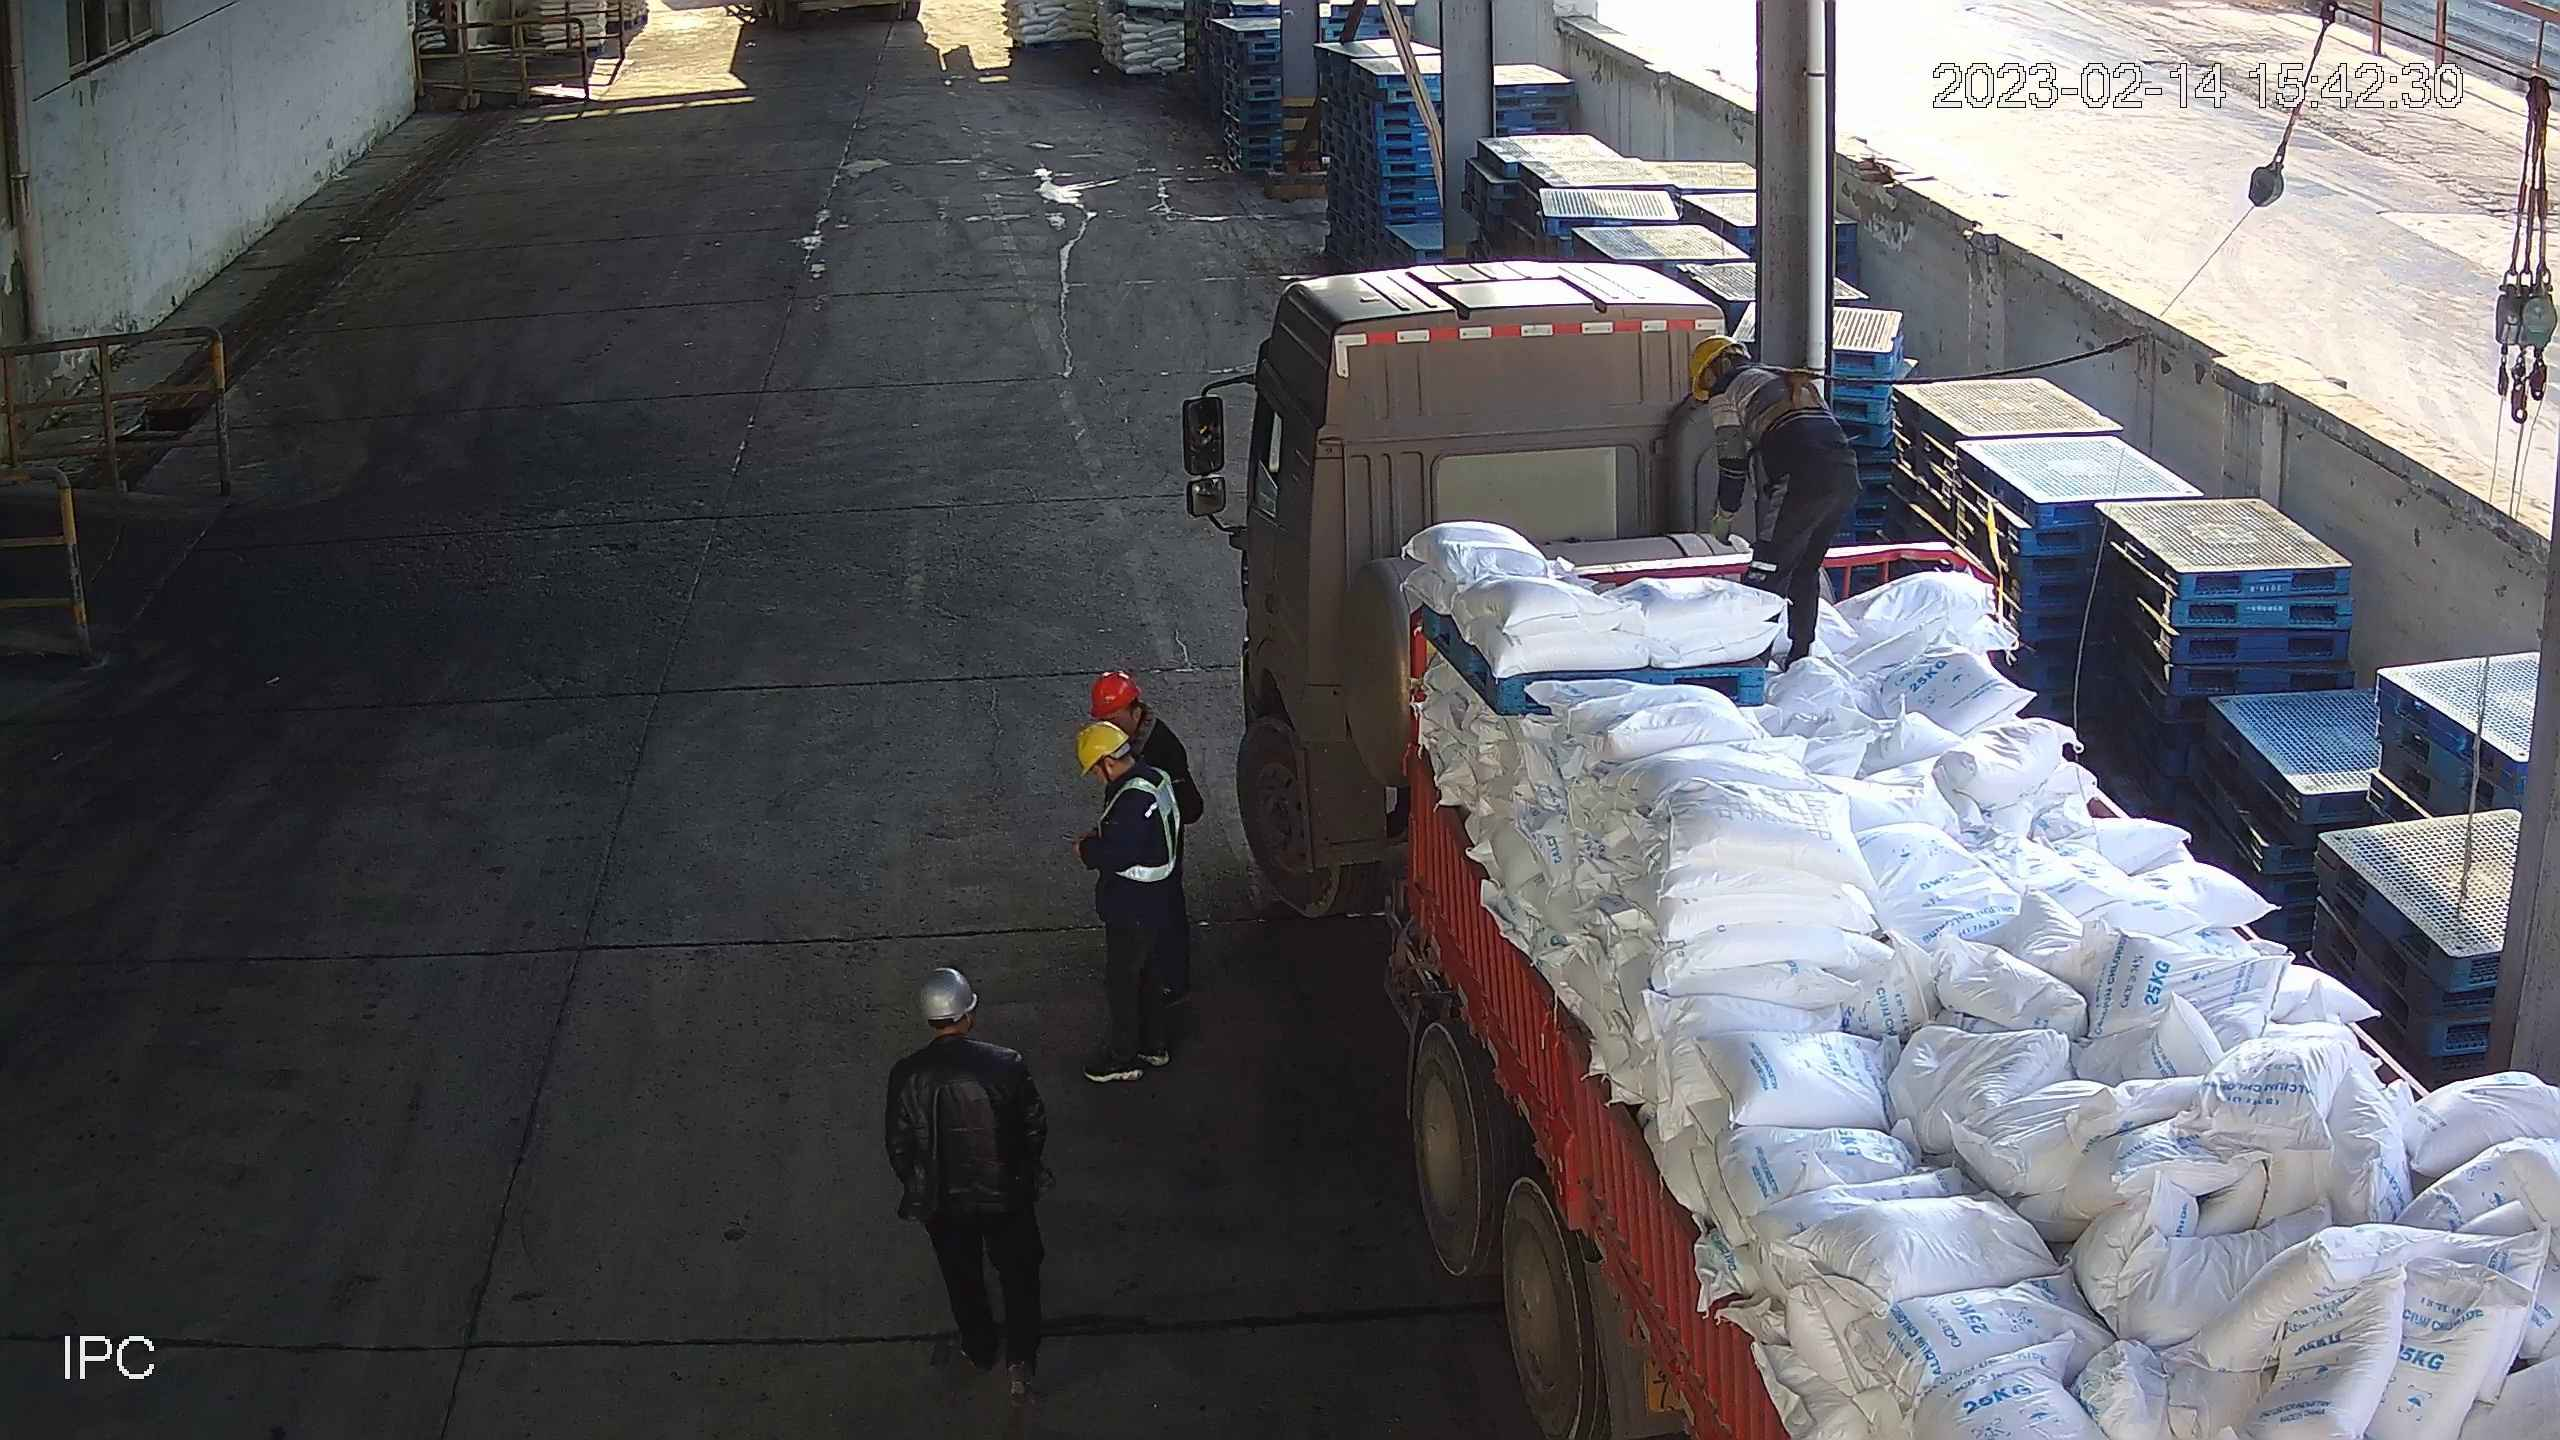belt: (1749, 354, 1840, 416)
head: (890, 973, 1033, 1099), (1694, 343, 1846, 447), (1072, 738, 1186, 836)
helmet: (916, 958, 983, 1017), (1083, 673, 1148, 717), (1073, 721, 1125, 769)
people: (890, 960, 1053, 1377), (1677, 332, 1862, 693), (1064, 734, 1194, 1088)
truck: (1179, 254, 2560, 1440)
